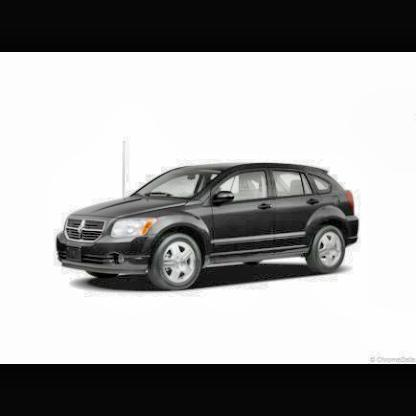Dodge Caliber Wagon 2012: (56, 161, 363, 294)
